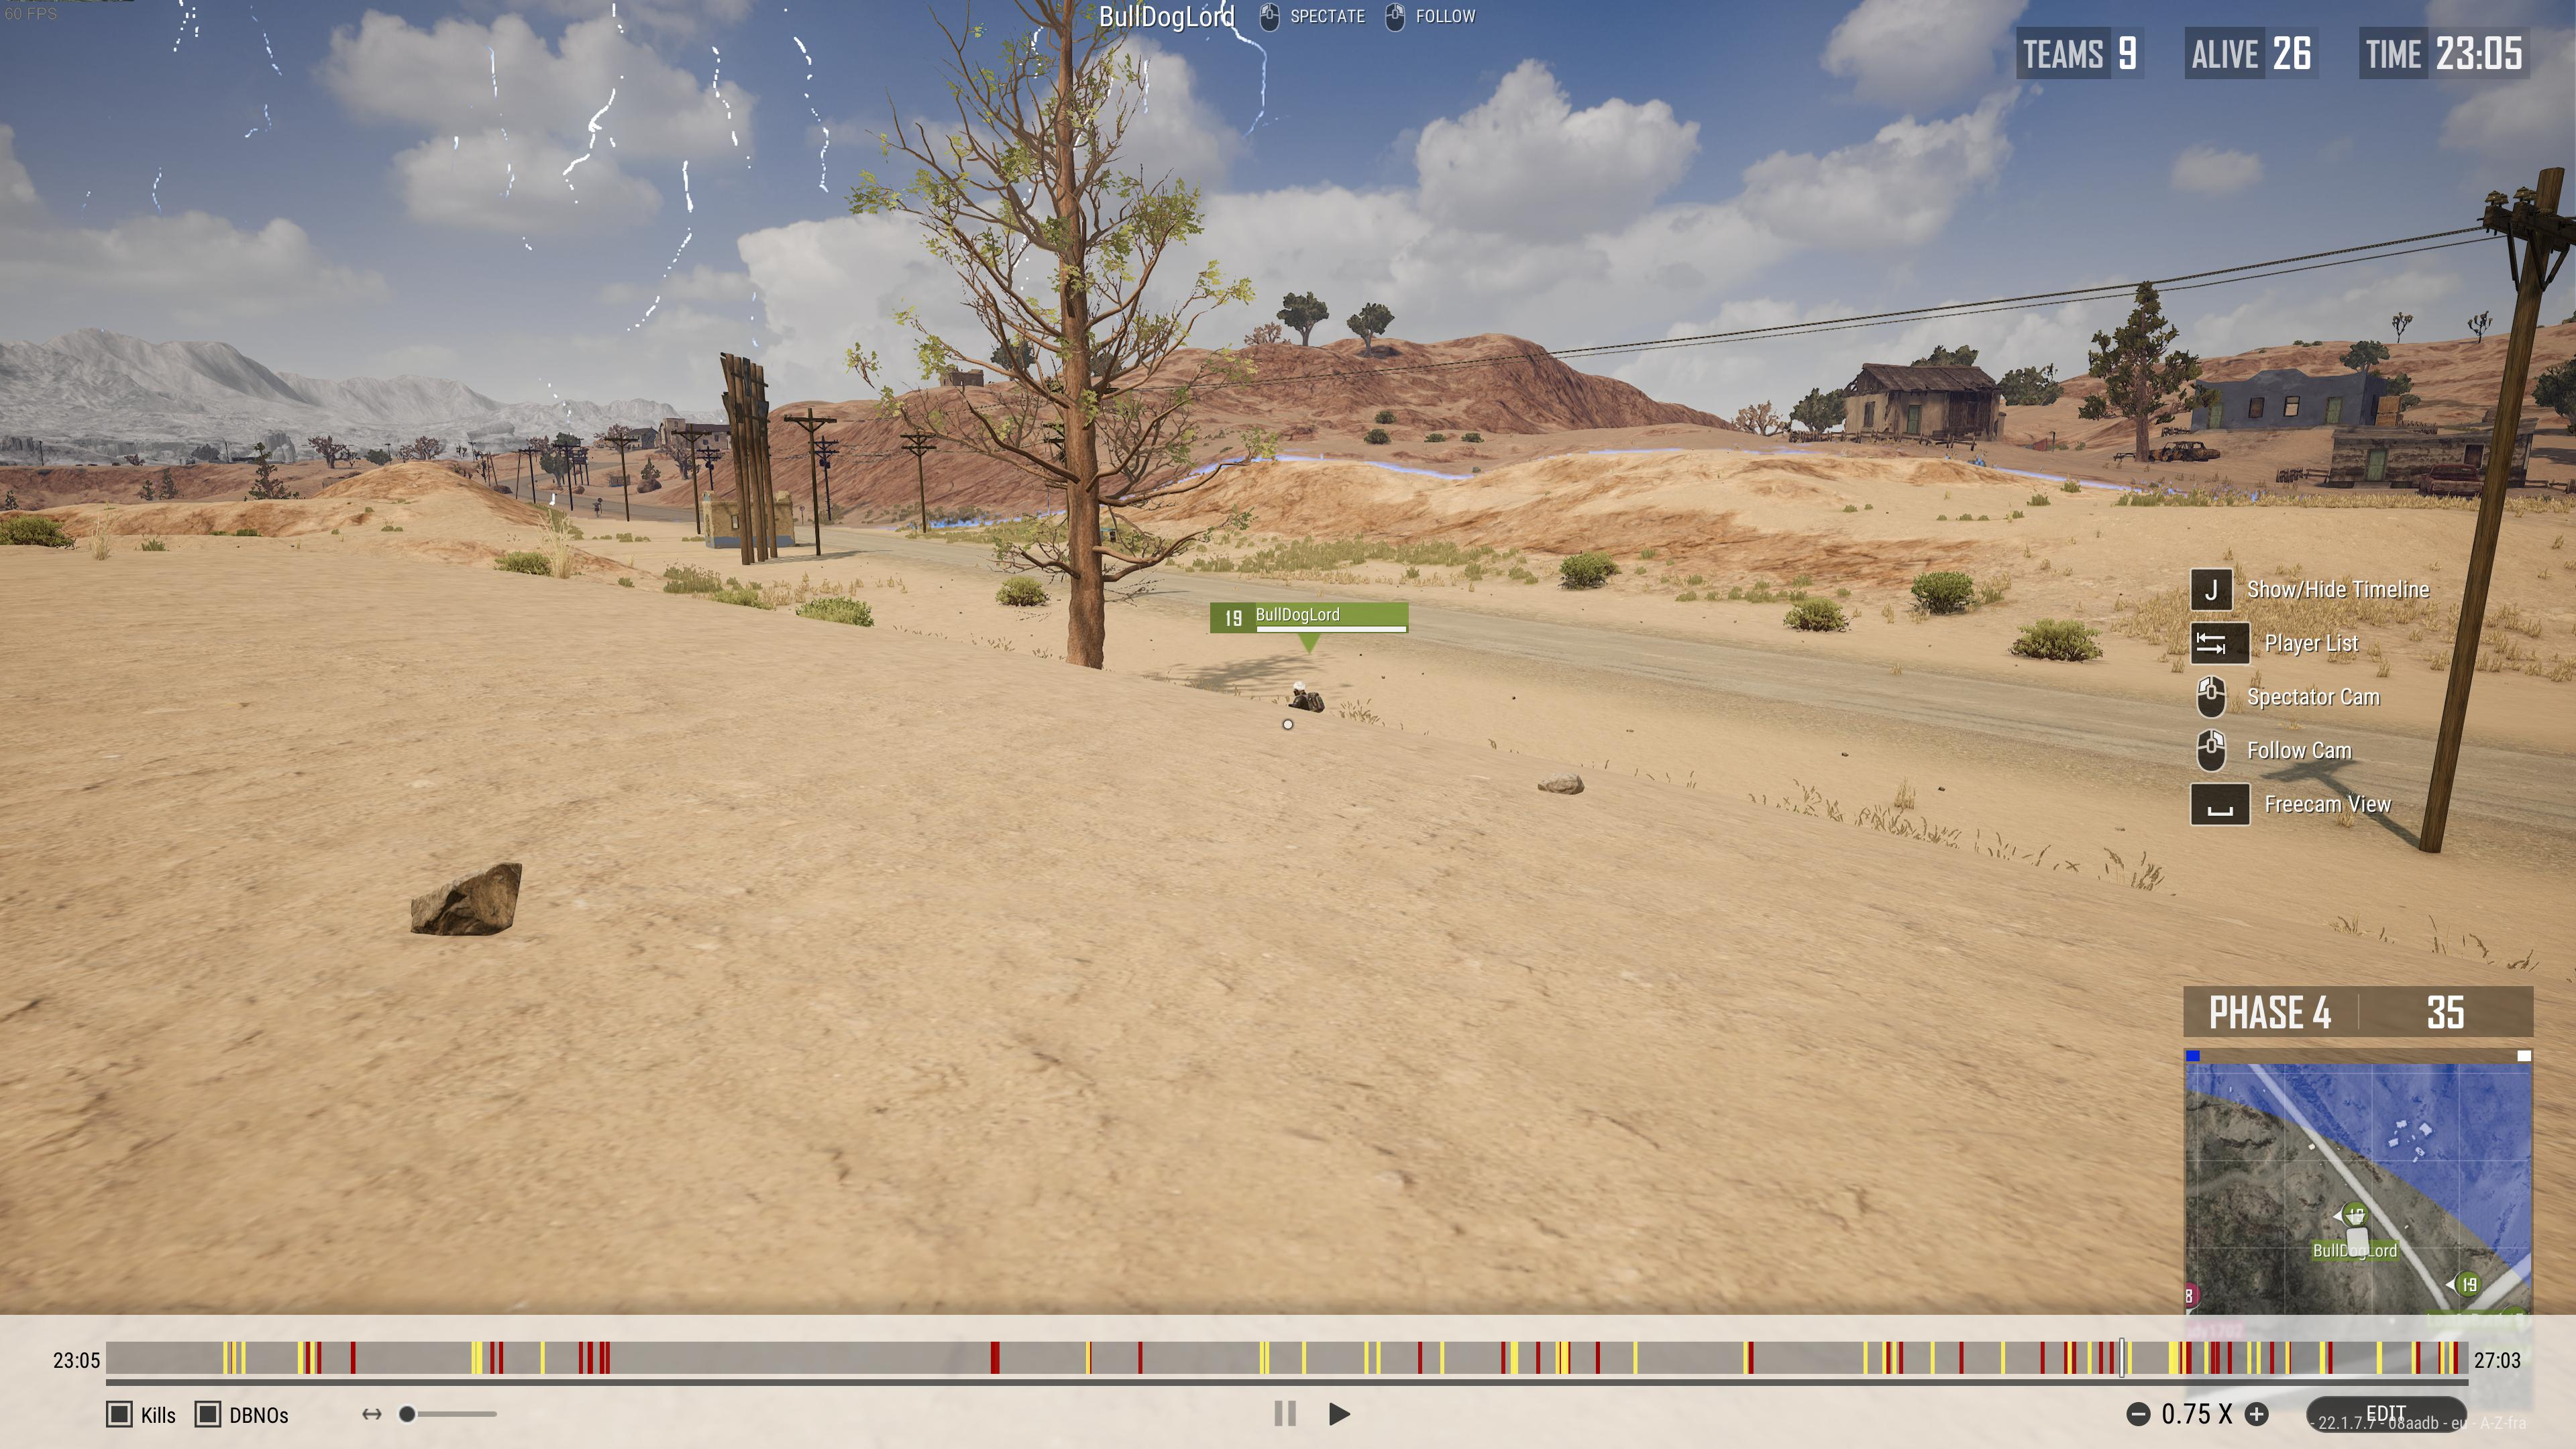enemy: (1288, 679, 1323, 711)
enemy_head: (1292, 681, 1306, 695)
